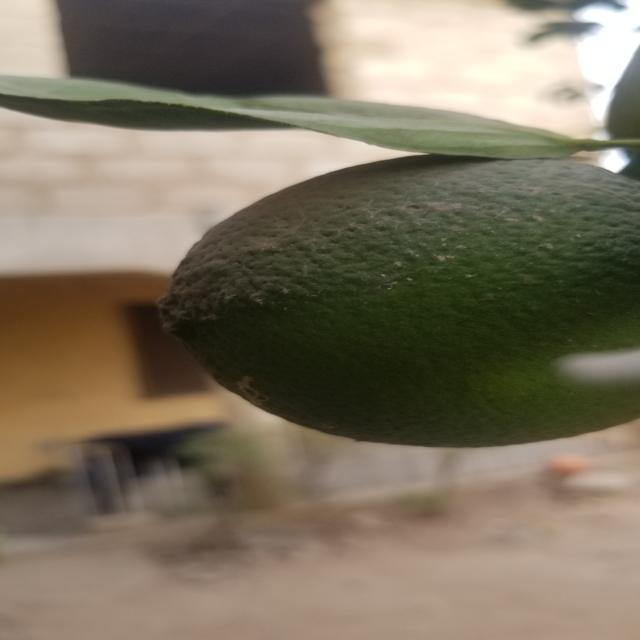Unripe: (166, 144, 624, 446)
